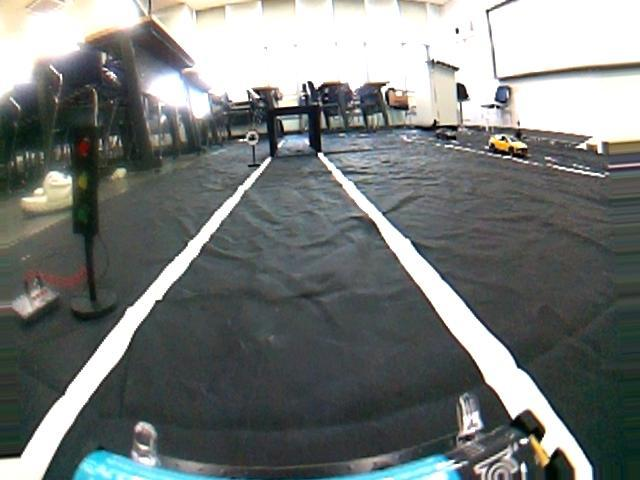red_light: (69, 130, 103, 239)
straight: (31, 216, 640, 479)
